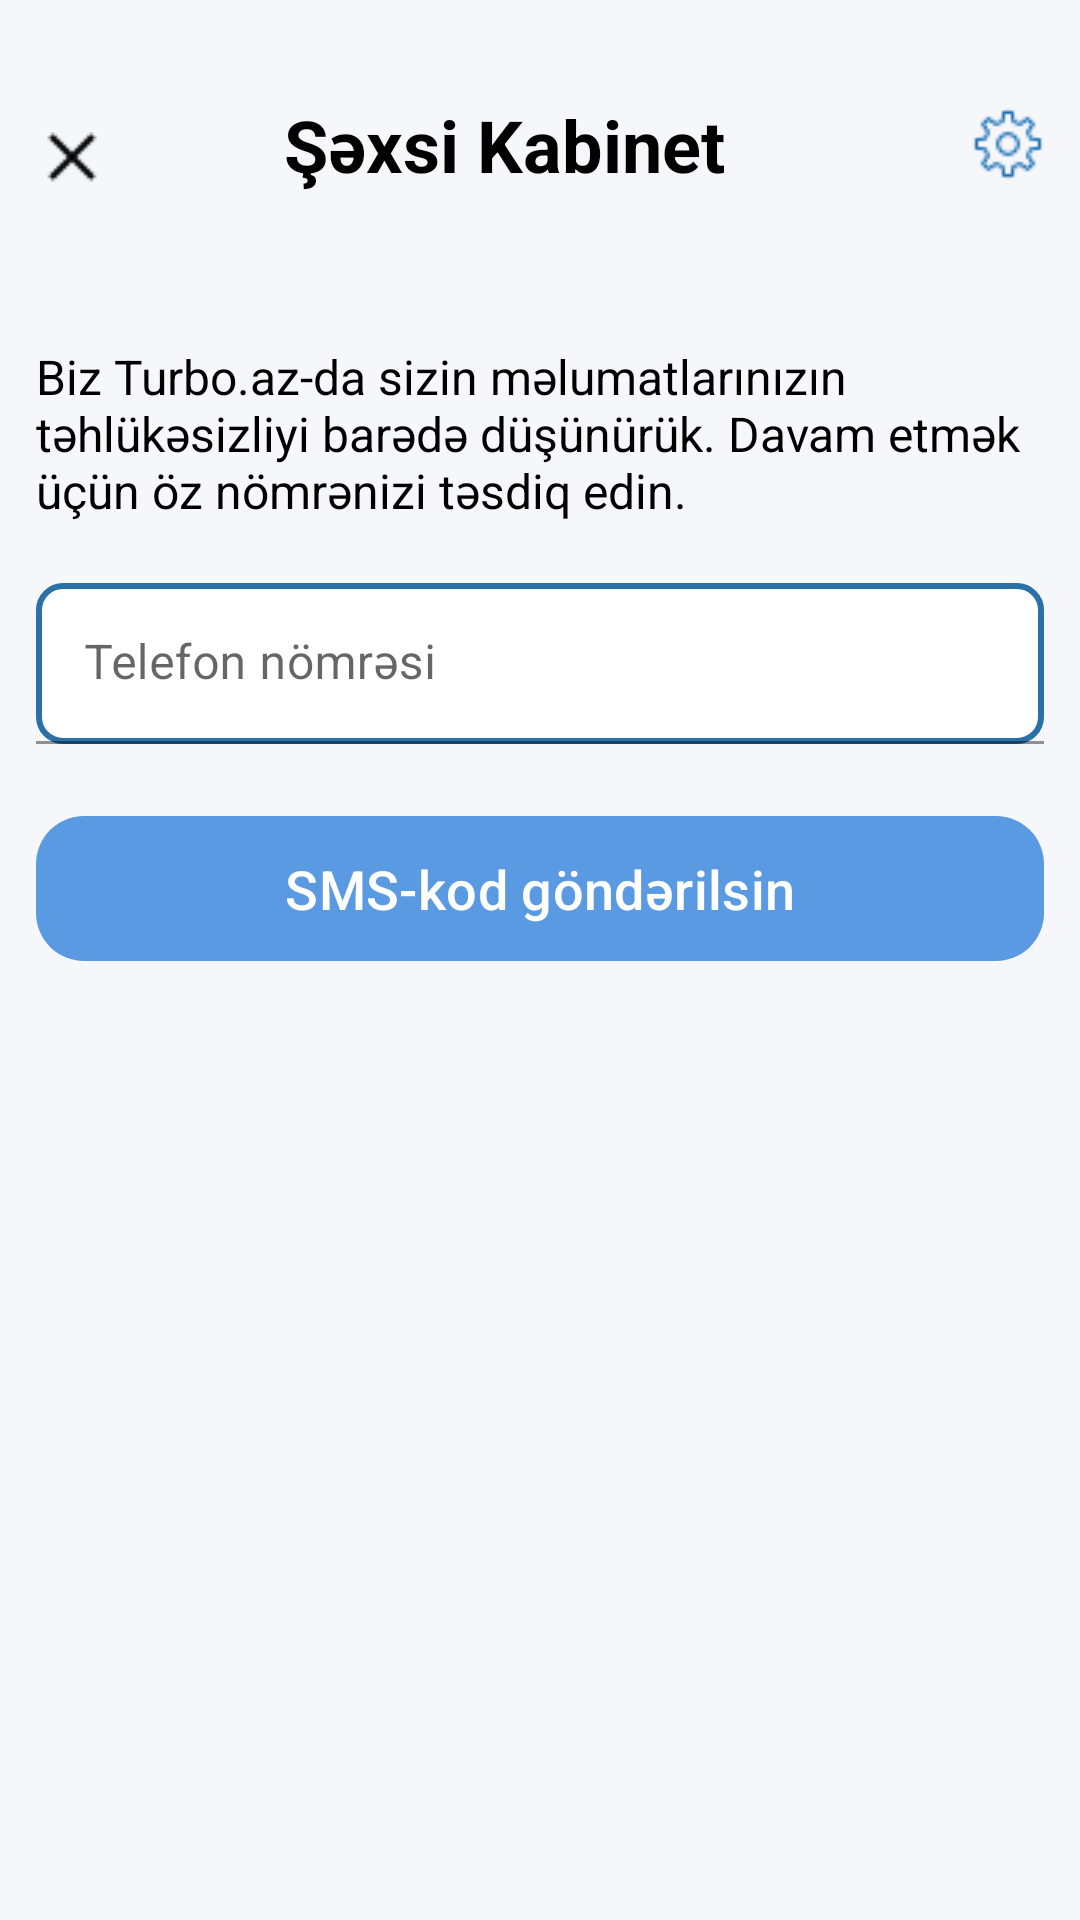

Where to tap for icons on this 1080*1920 app screen, as (x=x, y=y):
cancel: (x=72, y=157)
